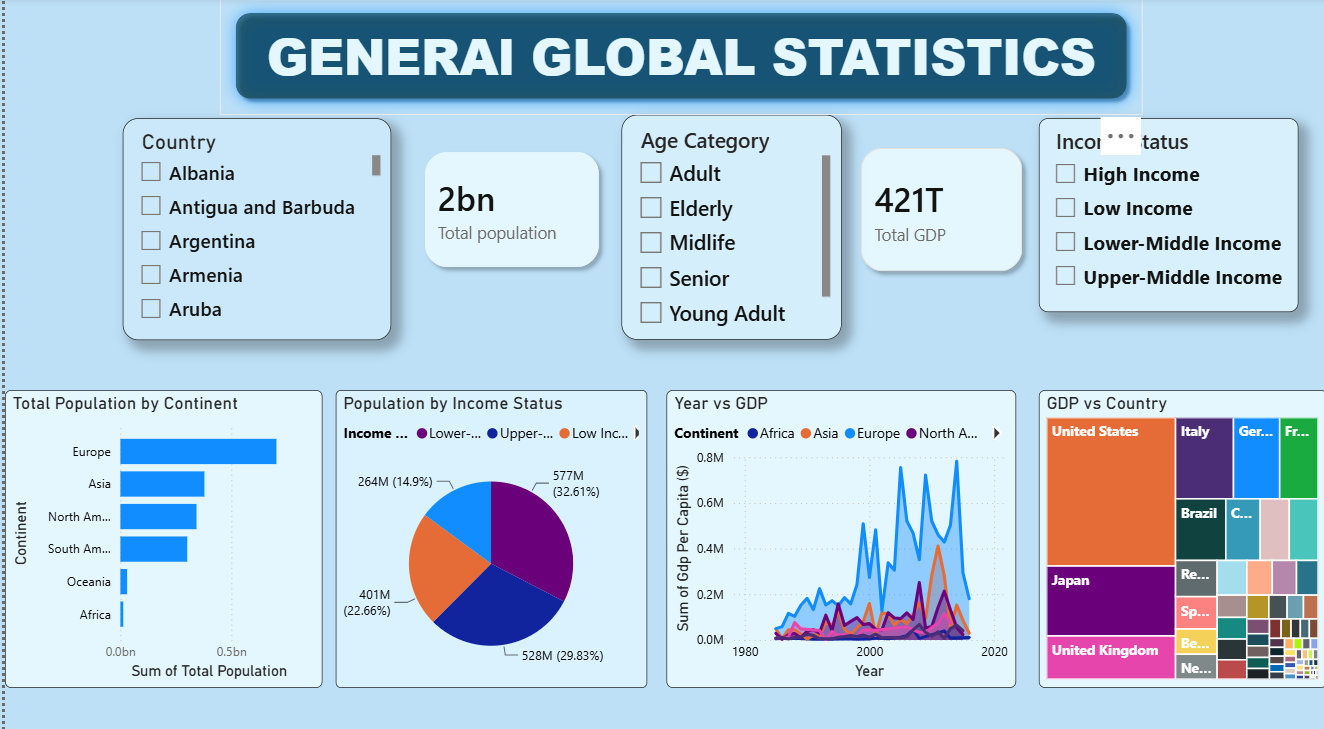

What the dashboard file says about the page in this screenshot:
{"tool":"powerbi","page":{"name":"Page 1","canvas":[1280,720],"ordinal":0},"visuals":[{"type":"cardVisual","fields":{"Data":["Suicide_Statistics.Total population"]},"box":[373.8,117.3,234.7,177.7],"z":0},{"type":"cardVisual","fields":{"Data":["Suicide_Statistics.Total GDP"]},"box":[799.5,117.3,214.5,177.7],"z":1000},{"type":"slicer","fields":{"Values":["Suicide_Statistics.Country"]},"box":[114,117.3,259.8,214.5],"z":2000},{"type":"slicer","fields":{"Values":["Suicide_Statistics.Age Category"]},"box":[596.7,114,212.9,217.9],"z":3000},{"type":"slicer","fields":{"Values":["Suicide_Statistics.Income Status"]},"box":[1000.6,117.3,251.4,187.7],"z":4000},{"type":"shape","box":[208.6,0,893.2,113.8],"z":5000},{"type":"pieChart","title":" Population by Income Status","fields":{"Category":["Suicide_Statistics.Income Status"],"Y":["Sum(Suicide_Statistics.Population)"]},"box":[320.5,381.2,301.5,288.3],"z":6000},{"type":"areaChart","title":"Year vs GDP","fields":{"Category":["Suicide_Statistics.Year"],"Y":["Sum(Suicide_Statistics.Gdp Per Capita ($))"],"Series":["Continent_Statistics.Continent"]},"box":[640.3,380.5,338.6,288.3],"z":7000},{"type":"treemap","title":"GDP vs Country","fields":{"Values":["Sum(Suicide_Statistics.GDP For Year ($))"],"Group":["Suicide_Statistics.Country"]},"box":[1001.3,381.2,278.8,288.3],"z":8000},{"type":"clusteredBarChart","title":" Total Population by Continent","fields":{"Category":["Continent_Statistics.Continent"],"Y":["Sum(Continent_Statistics.Total Population)"]},"box":[0,380.6,307,288.1],"z":9000}]}

Visuals, with their boxes in screenshot pixels (x1, y1, x2, y2), scaled from the page's 1280x720 canvas onto the 1324x729 screenshot:
cardVisual - Suicide_Statistics.Total population: Rect(387, 119, 629, 299)
cardVisual - Suicide_Statistics.Total GDP: Rect(827, 119, 1049, 299)
slicer - Suicide_Statistics.Country: Rect(118, 119, 387, 336)
slicer - Suicide_Statistics.Age Category: Rect(617, 115, 837, 336)
slicer - Suicide_Statistics.Income Status: Rect(1035, 119, 1295, 309)
shape: Rect(216, 0, 1140, 115)
" Population by Income Status" pieChart: Rect(332, 386, 643, 678)
"Year vs GDP" areaChart: Rect(662, 385, 1013, 677)
"GDP vs Country" treemap: Rect(1036, 386, 1323, 678)
" Total Population by Continent" clusteredBarChart: Rect(0, 385, 318, 677)
